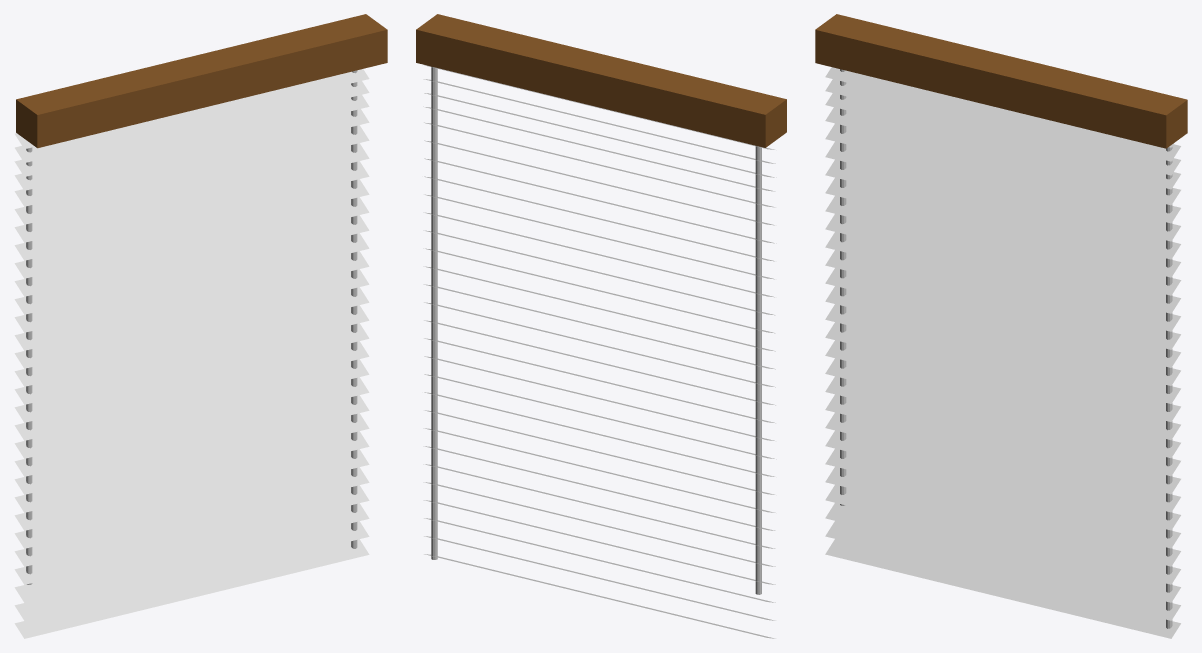
File: decor_blind3.fbx
3 views of the same model, side by side, from view 1: azimuth 30°, elevation 25°; view 2: azimuth 150°, elevation 25°; view 3: azimuth 330°, elevation 25° (orthographic).
Visible parts, largest first — view 1: decor_blind3; view 2: decor_blind3; view 3: decor_blind3.
Boxes of the visible parts, x1=… form: decor_blind3: x1=14, y1=14, x2=387, y2=638; decor_blind3: x1=416, y1=14, x2=786, y2=638; decor_blind3: x1=815, y1=14, x2=1187, y2=638.
Size of the model in its own units: 89.56 by 129 by 9.45.
